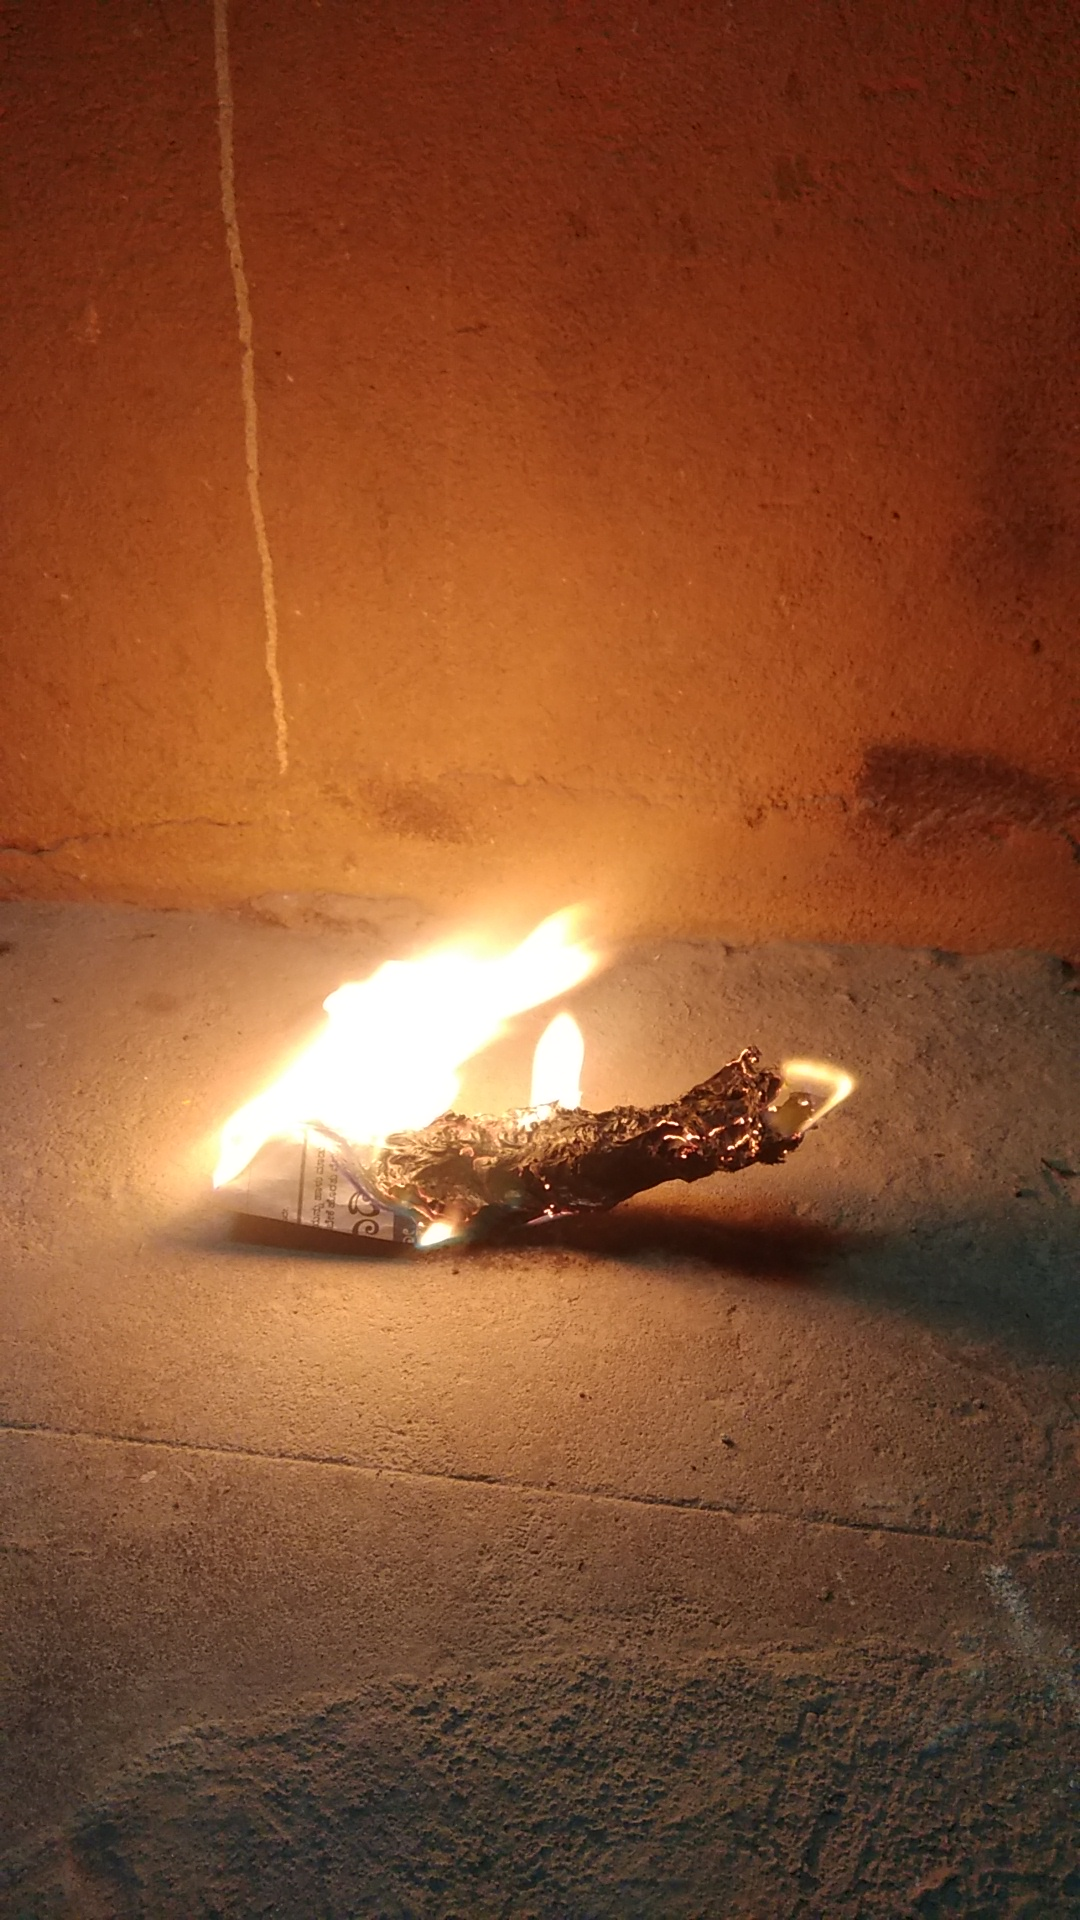Fire: (193, 886, 640, 1257)
